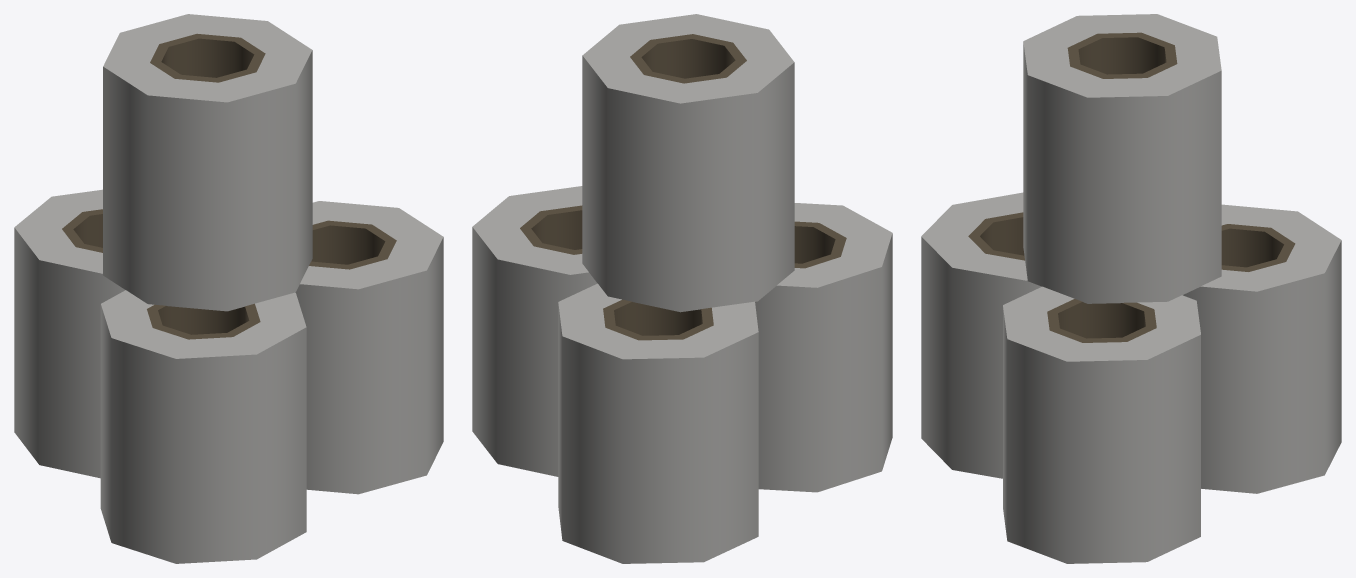
The model's file is Bathroom_ToiletPaperPile.glb.
The picture shows the model from 3 angles, left to right: view 1: azimuth 30°, elevation 25°; view 2: azimuth 150°, elevation 25°; view 3: azimuth 270°, elevation 25°; orthographic projection.
Visible parts, largest first — view 1: Bathroom_ToiletPaperPile; view 2: Bathroom_ToiletPaperPile; view 3: Bathroom_ToiletPaperPile.
Boxes of the visible parts, x1,y1,x2,y2 form: Bathroom_ToiletPaperPile: [14, 14, 443, 563]; Bathroom_ToiletPaperPile: [472, 14, 892, 563]; Bathroom_ToiletPaperPile: [921, 14, 1341, 563].
Size of the model in its own units: 0.3345 by 0.3747 by 0.3498.
